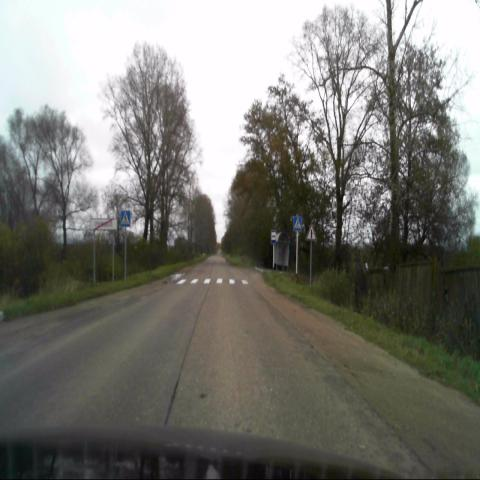2_3_2: (305, 222, 318, 241)
5_19_1: (293, 214, 302, 233), (120, 211, 130, 227)
